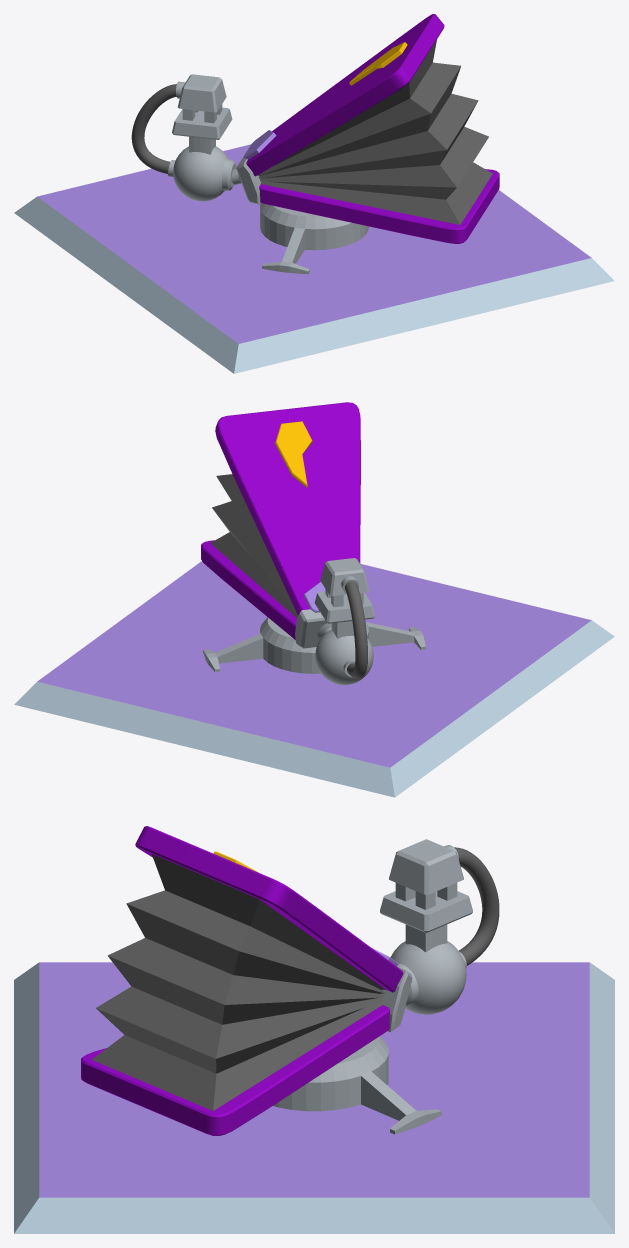
File: 65_Haarvester_FOMO1.fbx
3 renders of one model, top to bottom at view 1: azimuth 30°, elevation 25°; view 2: azimuth 150°, elevation 25°; view 3: azimuth 270°, elevation 25°, orthographic. The views are drawn at different scales.
Visible parts, largest first — view 1: foundation1, collapser, lid_top, lid_bottom, pCylinder245, pSphere27, pCube122, pCylinder103, emboss1, pPlane30; view 2: foundation1, lid_top, pCylinder245, collapser, lid_bottom, pCube122, pSphere27, emboss1, pCylinder103, pPlane30; view 3: foundation1, collapser, lid_bottom, lid_top, pCylinder245, pCube122, pSphere27, pCylinder103, pPlane30, polySurface63.
Part boxes in pixels (x1,y1,x2,y2): foundation1: (14, 144, 614, 373); collapser: (258, 40, 492, 224); lid_top: (246, 14, 444, 176); lid_bottom: (259, 169, 499, 243); pCylinder245: (260, 203, 368, 274); pSphere27: (173, 136, 236, 201); pCube122: (172, 74, 232, 139); pCylinder103: (131, 81, 185, 177); emboss1: (243, 42, 407, 159); pPlane30: (236, 144, 261, 204); foundation1: (14, 561, 614, 797); lid_top: (215, 402, 360, 615); pCylinder245: (203, 617, 425, 673); collapser: (210, 474, 297, 617); lid_bottom: (201, 540, 296, 639); pCube122: (314, 558, 374, 623); pSphere27: (315, 621, 373, 684); emboss1: (275, 421, 325, 612); pCylinder103: (341, 576, 367, 678); pPlane30: (295, 609, 326, 648); foundation1: (14, 962, 614, 1233); collapser: (92, 854, 385, 1110); lid_bottom: (81, 1005, 390, 1135); lid_top: (135, 826, 403, 992); pCylinder245: (273, 1036, 441, 1134); pCube122: (380, 839, 472, 932); pSphere27: (390, 924, 466, 1014); pCylinder103: (444, 845, 499, 968); pPlane30: (380, 966, 412, 1032); polySurface63: (395, 883, 457, 909).
Bounding box in the file's own units: 2 × 1.09 × 2.
